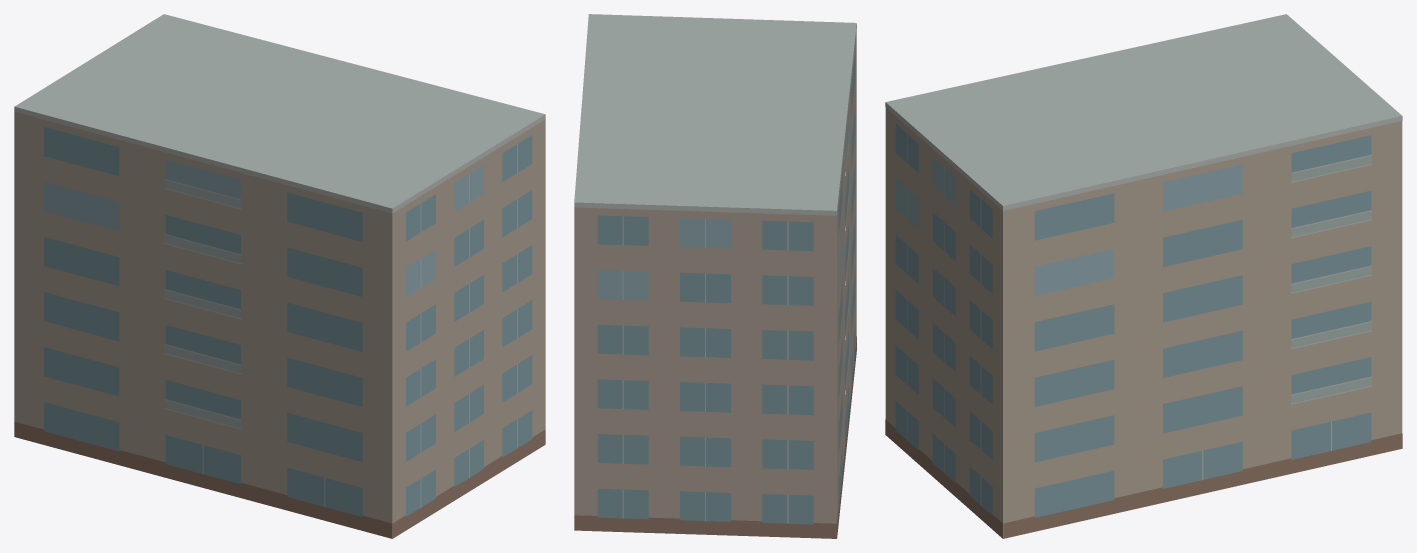
File: survey-upis-32832680.glb
The picture shows the model from 3 angles, left to right: view 1: azimuth 30°, elevation 25°; view 2: azimuth 150°, elevation 25°; view 3: azimuth 270°, elevation 25°; orthographic projection.
Parts seen in each view (by area): view 1: survey-upis-32832680.tmp; view 2: survey-upis-32832680.tmp; view 3: survey-upis-32832680.tmp.
Part boxes in pixels (box(x1,y1,x2,y2)): survey-upis-32832680.tmp: box(14, 14, 545, 538); survey-upis-32832680.tmp: box(574, 14, 856, 538); survey-upis-32832680.tmp: box(885, 14, 1402, 538).
Bounding box in the file's own units: 20.18 × 16.3 × 22.95.
